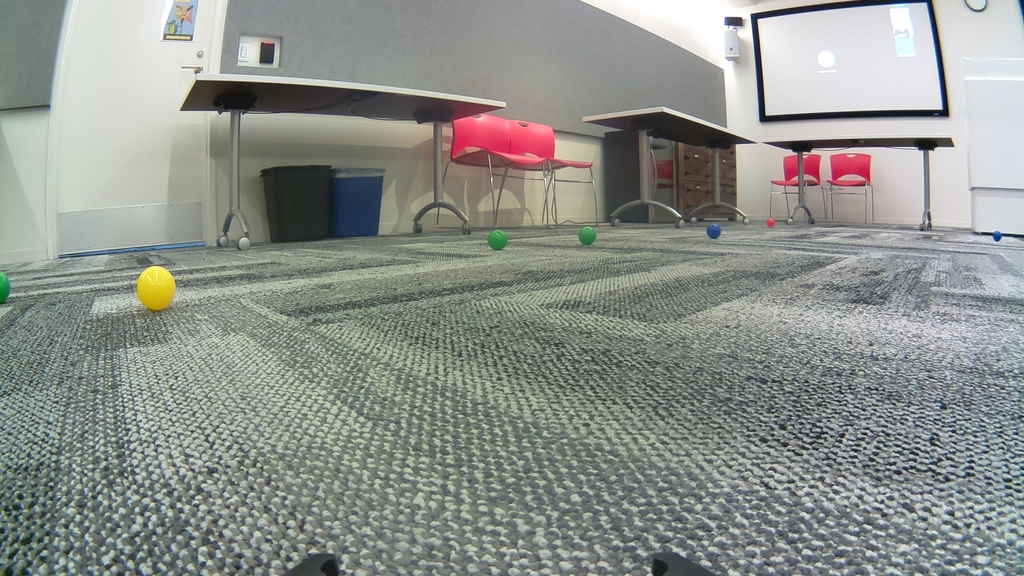ball: (767, 219, 775, 226)
